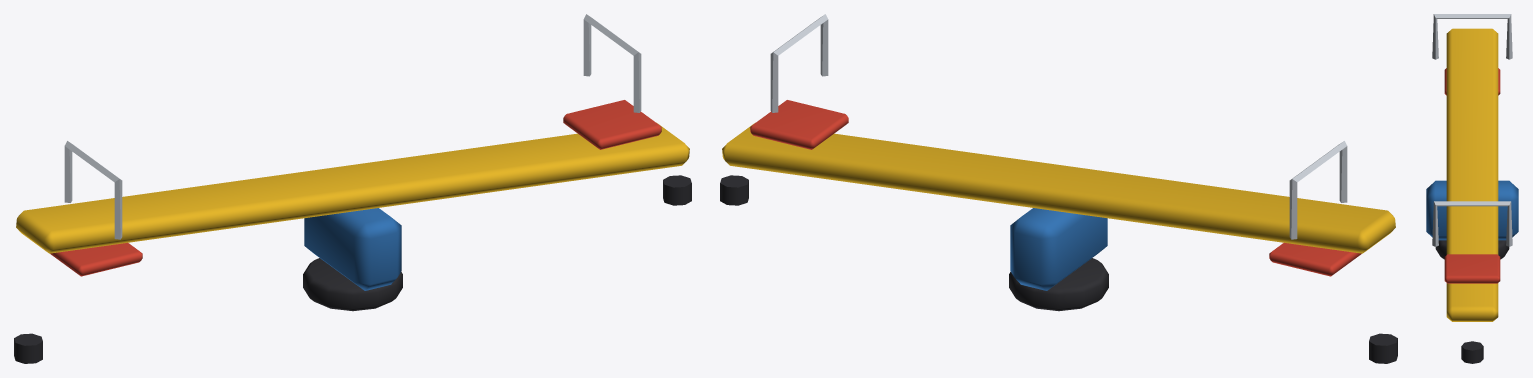
The model's file is playground_seesaw.glb.
The picture shows the model from 3 angles, left to right: view 1: azimuth 30°, elevation 25°; view 2: azimuth 150°, elevation 25°; view 3: azimuth 270°, elevation 25°; orthographic projection. The views are drawn at different scales.
Visible parts, largest first — view 1: playground_seesaw; view 2: playground_seesaw; view 3: playground_seesaw.
Part boxes in pixels (left/top/right/bottom): playground_seesaw: left=14, top=14, right=691, bottom=363; playground_seesaw: left=720, top=14, right=1397, bottom=363; playground_seesaw: left=1426, top=14, right=1518, bottom=363.
Bounding box in the file's own units: 3.12 × 0.8653 × 0.5.
